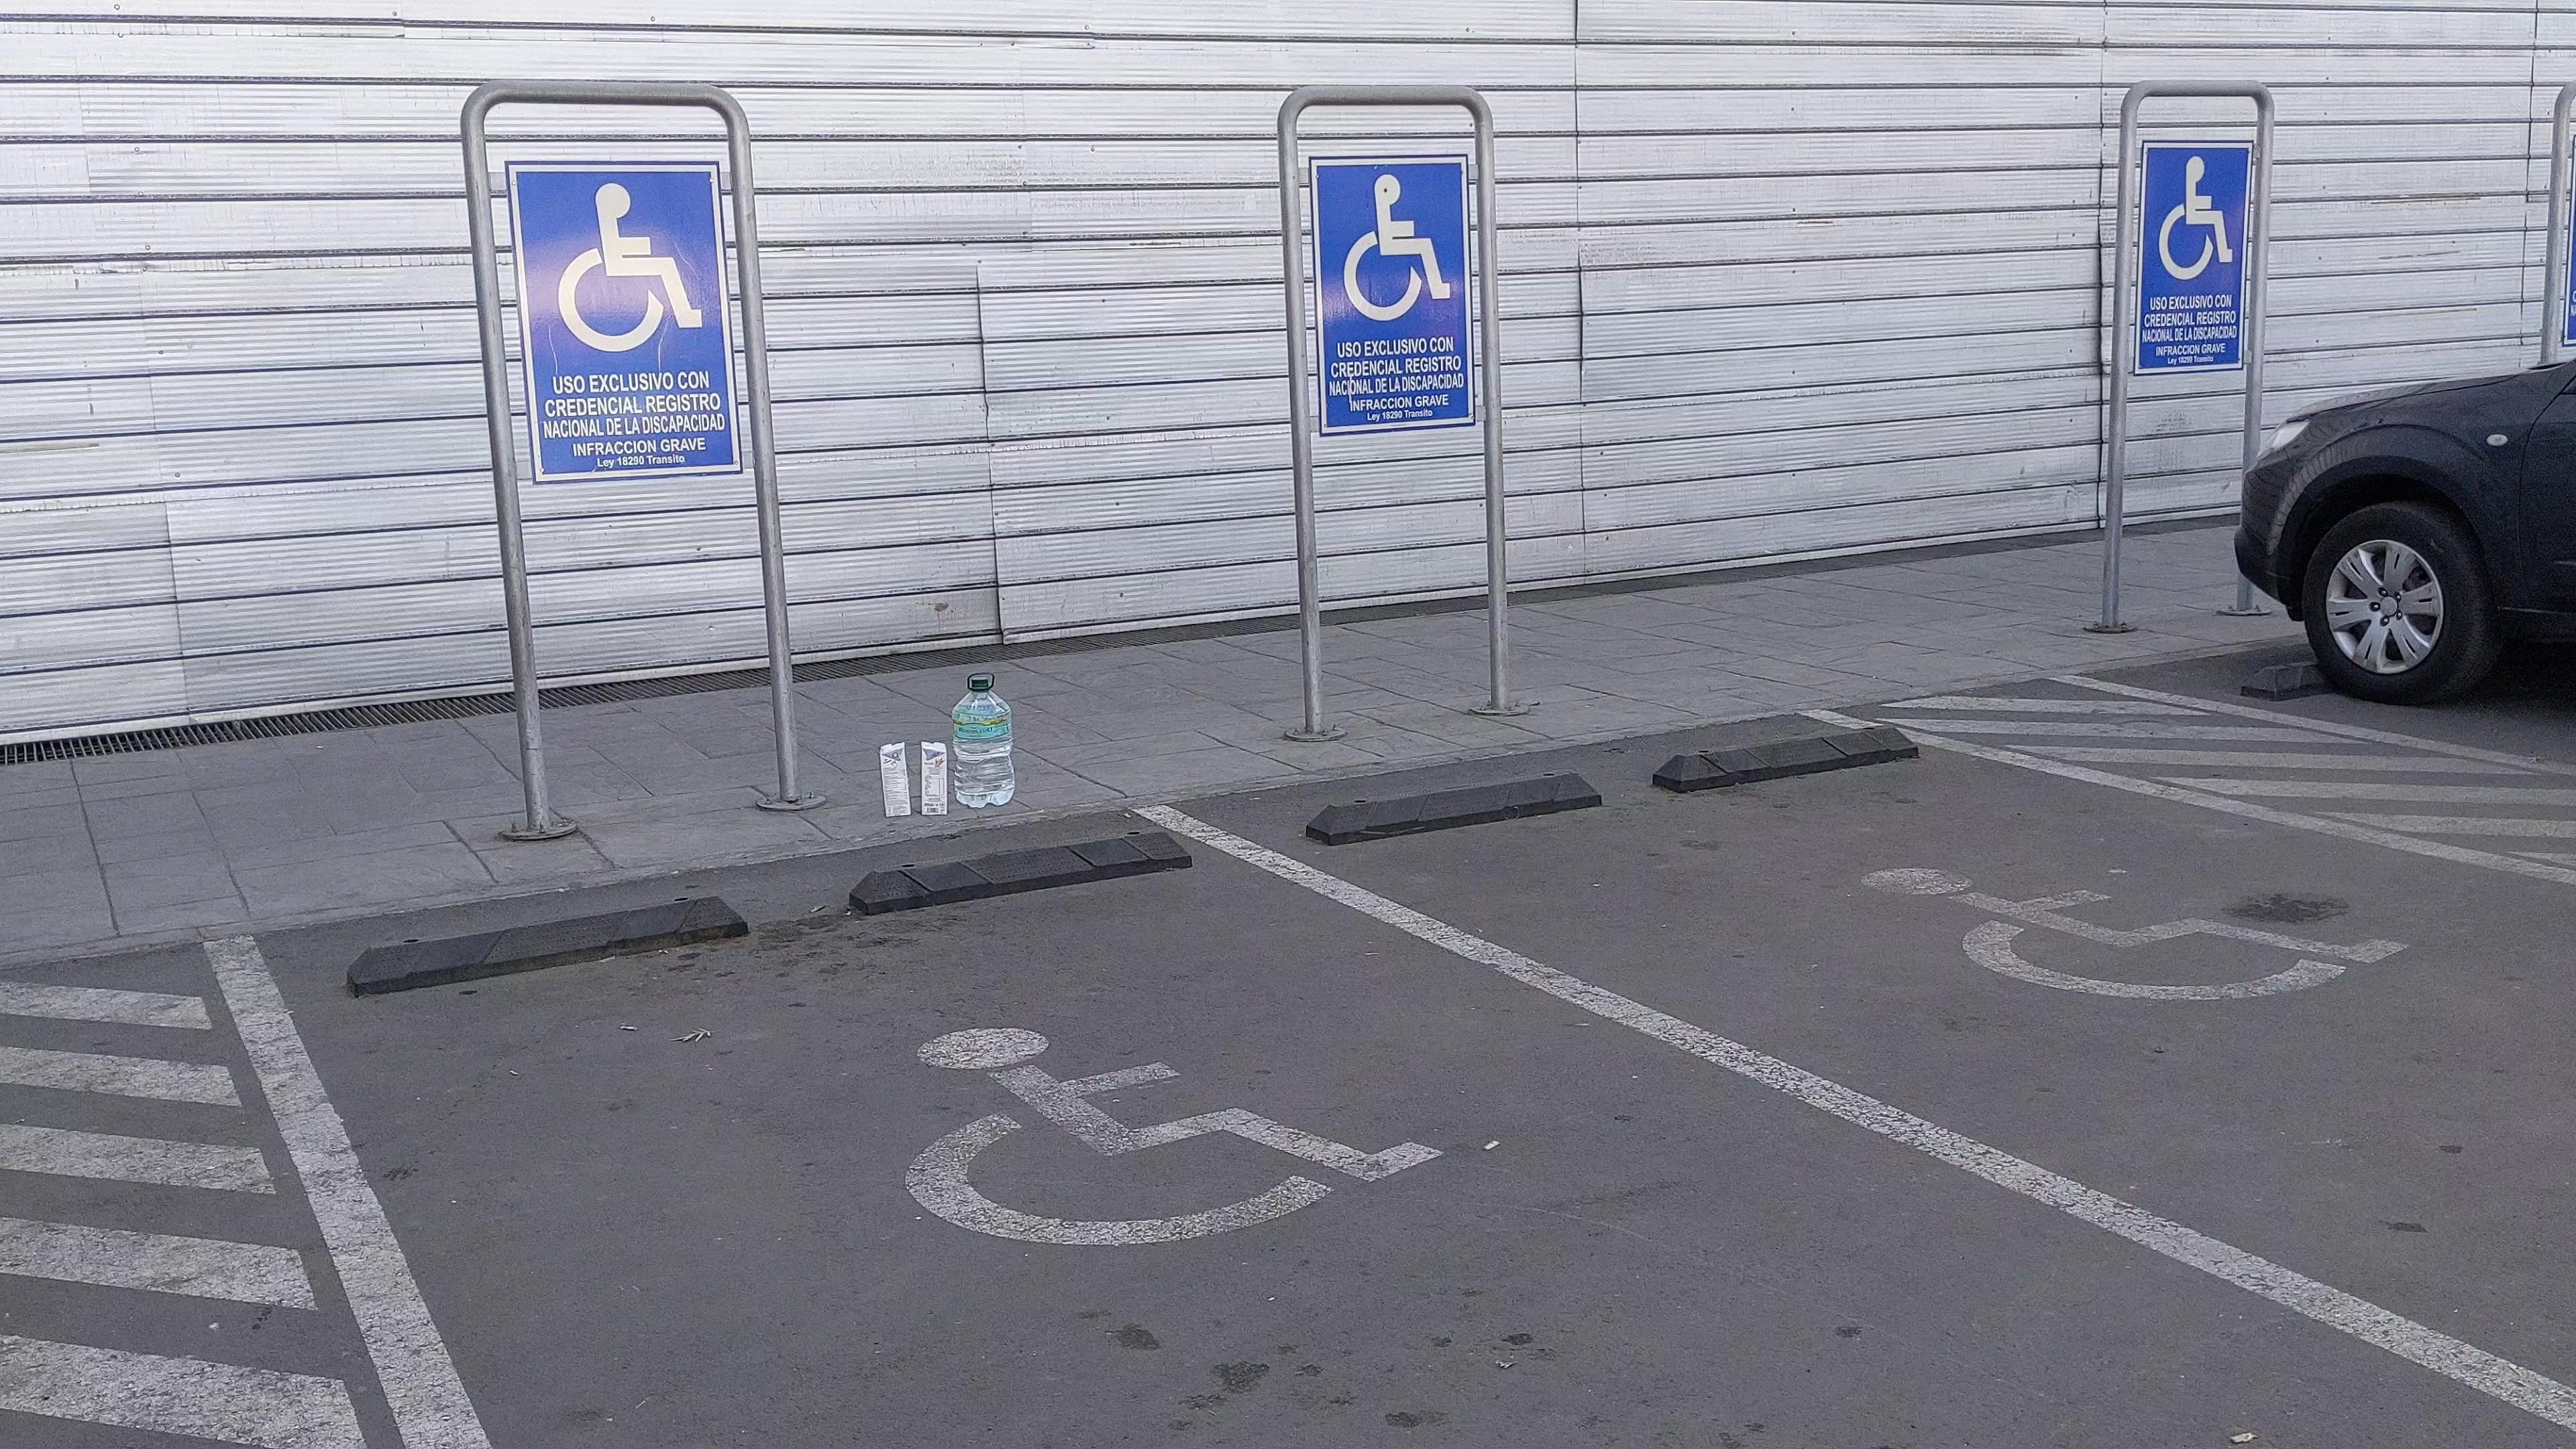handicapped symbol: (892, 1017, 1447, 1258), (1849, 849, 2411, 1016), (550, 179, 708, 357), (1341, 170, 1454, 326), (2158, 154, 2236, 283)
